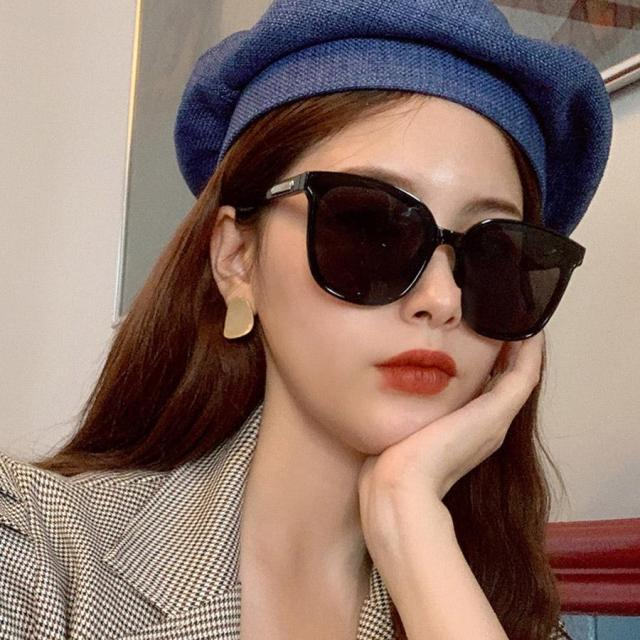hat: (175, 1, 614, 244)
